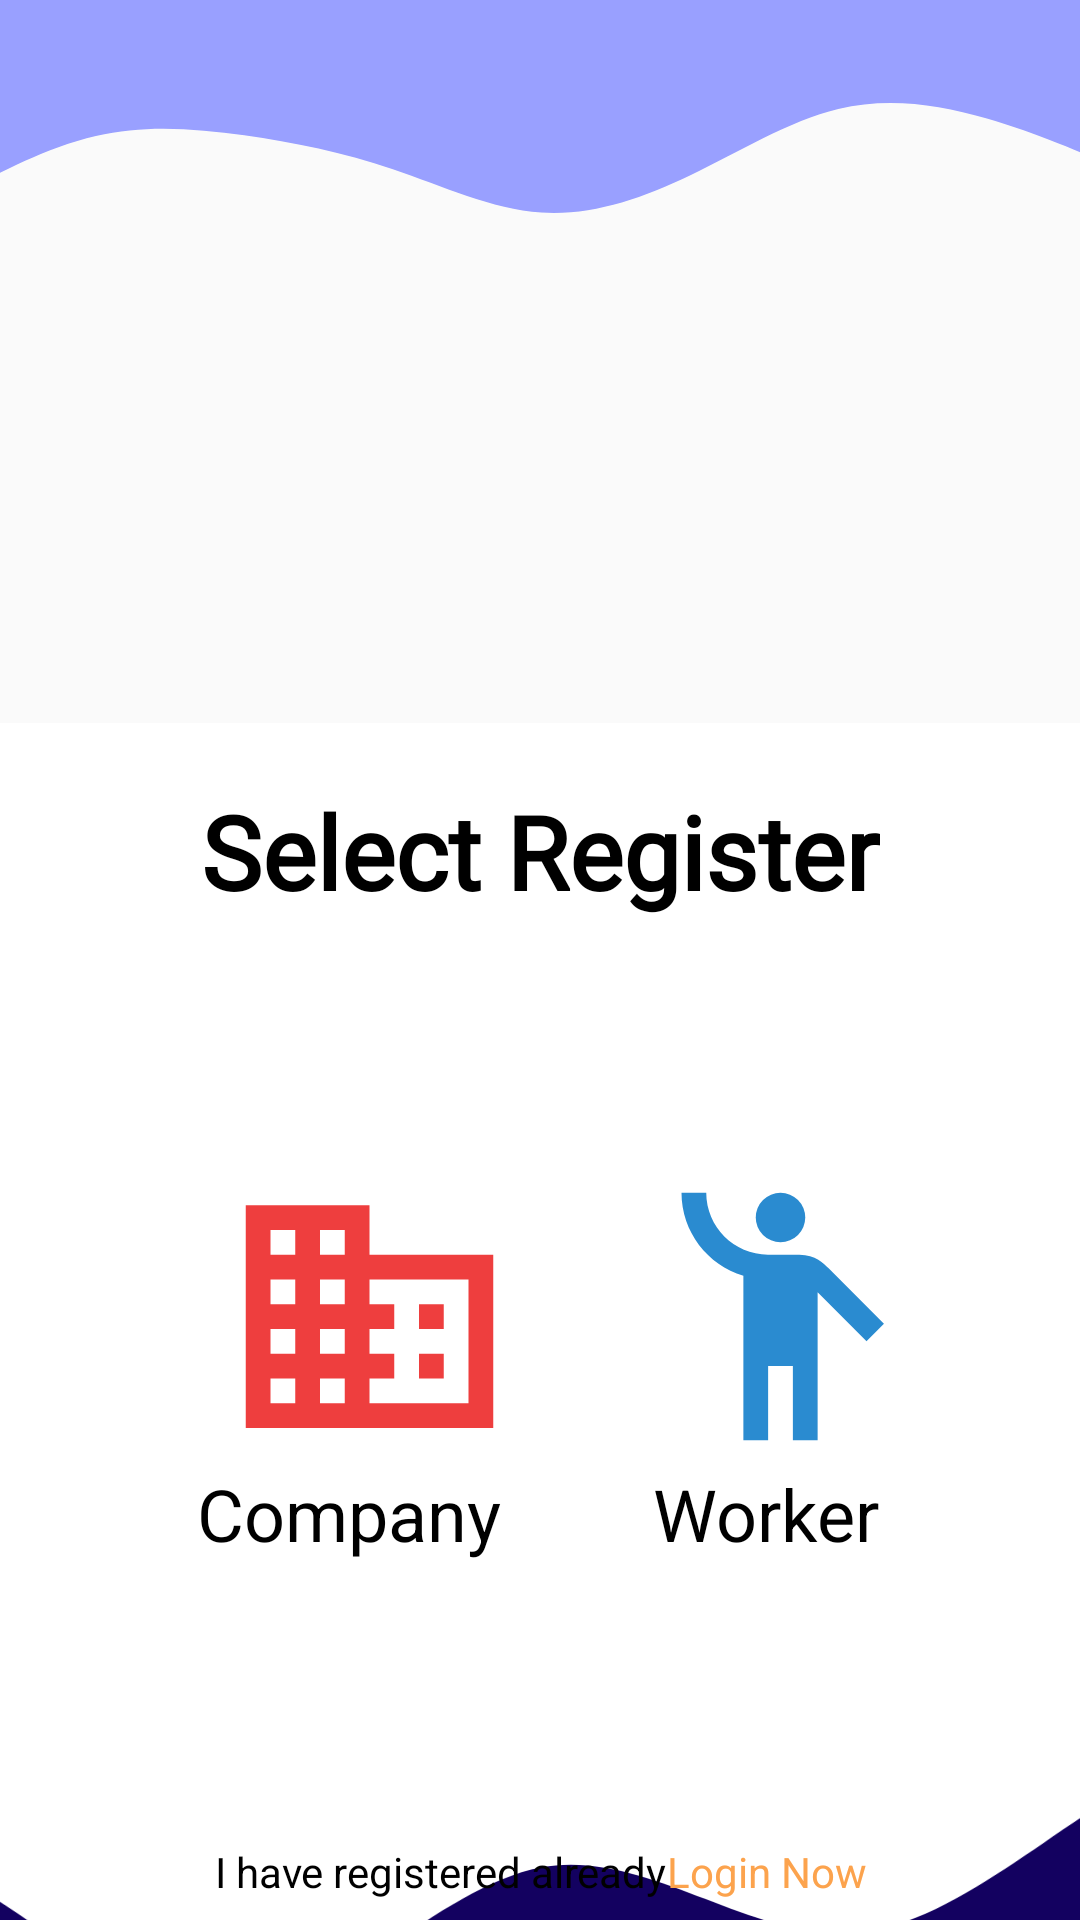

Icons on this 1080px x 1920px Android screen, each with its box as {"x1": x1, "y1": y1, "x2": x2, "y2": y2}:
Employee Register: {"x1": 681, "y1": 1192, "x2": 884, "y2": 1441}
